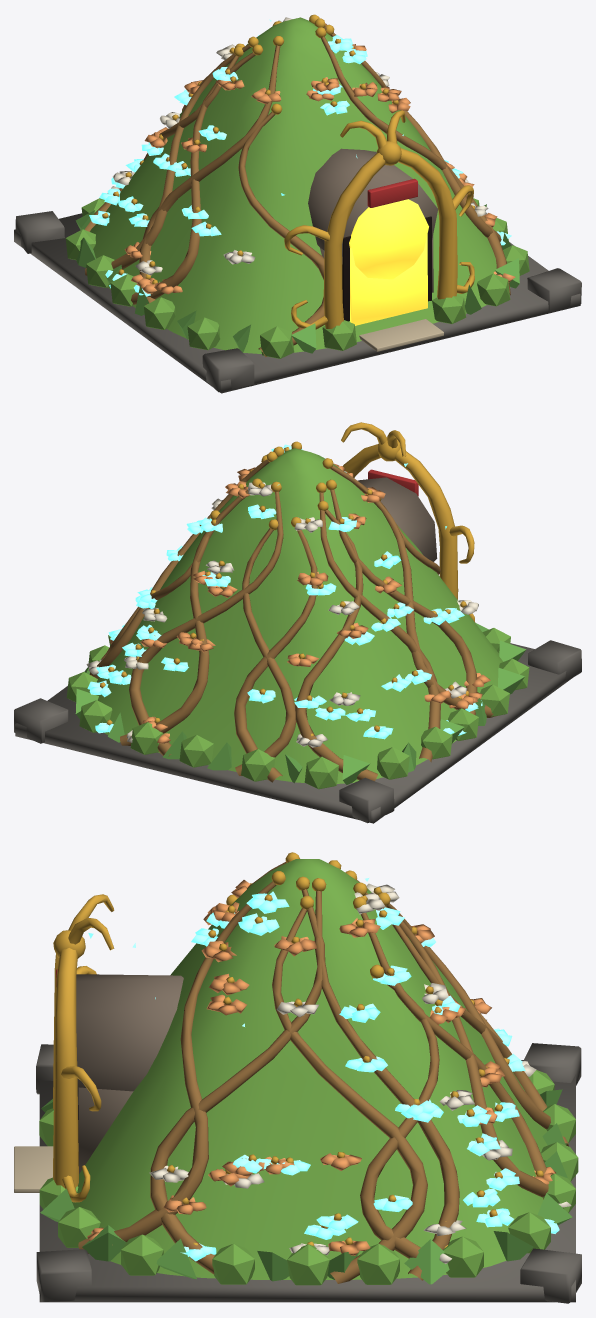
The model's file is antre.glb.
3 renders of one model, top to bottom at view 1: azimuth 30°, elevation 25°; view 2: azimuth 150°, elevation 25°; view 3: azimuth 270°, elevation 25°, orthographic. The views are drawn at different scales.
Parts seen in each view (by area): view 1: grass, granite, bronze, gold, doorglow, jamb, ether, peach, leaf, stone, cream, shadow (+1 smaller); view 2: grass, bronze, granite, ether, gold, peach, leaf, cream, jamb; view 3: grass, bronze, granite, jamb, gold, ether, peach, leaf, cream, stone.
Boxes of the visible parts, x1,y1,x2,y2 form: grass: (65,17,529,358); granite: (14,211,581,393); bronze: (84,26,510,356); gold: (102,14,474,329); doorglow: (349,199,428,325); jamb: (308,148,438,292); ether: (89,19,511,296); peach: (124,23,515,294); leaf: (75,198,519,353); stone: (359,319,443,351); cream: (107,17,488,275); shadow: (342,216,431,321); grass: (66,448,529,789); bronze: (89,459,496,782); granite: (14,640,581,823); ether: (87,444,482,739); gold: (91,422,475,736); peach: (109,463,490,743); leaf: (75,623,526,784); cream: (86,482,478,747); jamb: (358,477,437,561); grass: (39,859,578,1285); bronze: (78,862,568,1283); granite: (36,1043,581,1303); jamb: (76,974,183,1173); gold: (53,852,543,1248); ether: (88,878,559,1261); peach: (87,880,555,1255); leaf: (40,1089,572,1284); cream: (149,883,571,1263); stone: (14,1146,53,1192).
Size of the model in its own units: 4.08 by 2.7 by 4.23.
